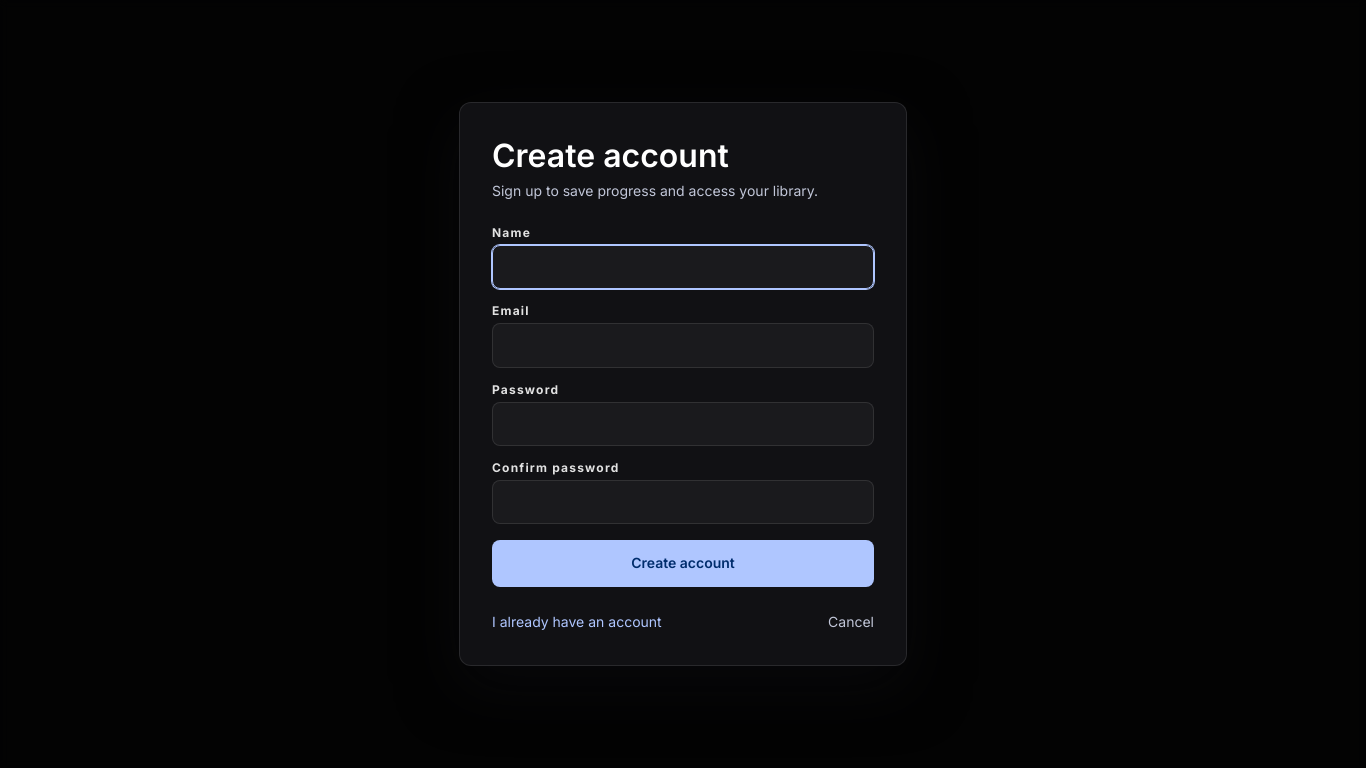
Test: SignUpDialog › surfaces a root error when signUp throws
Type "Alex" into the field labelled "Name".
click(683, 267); type("Alex")  # box [492, 245, 874, 289]
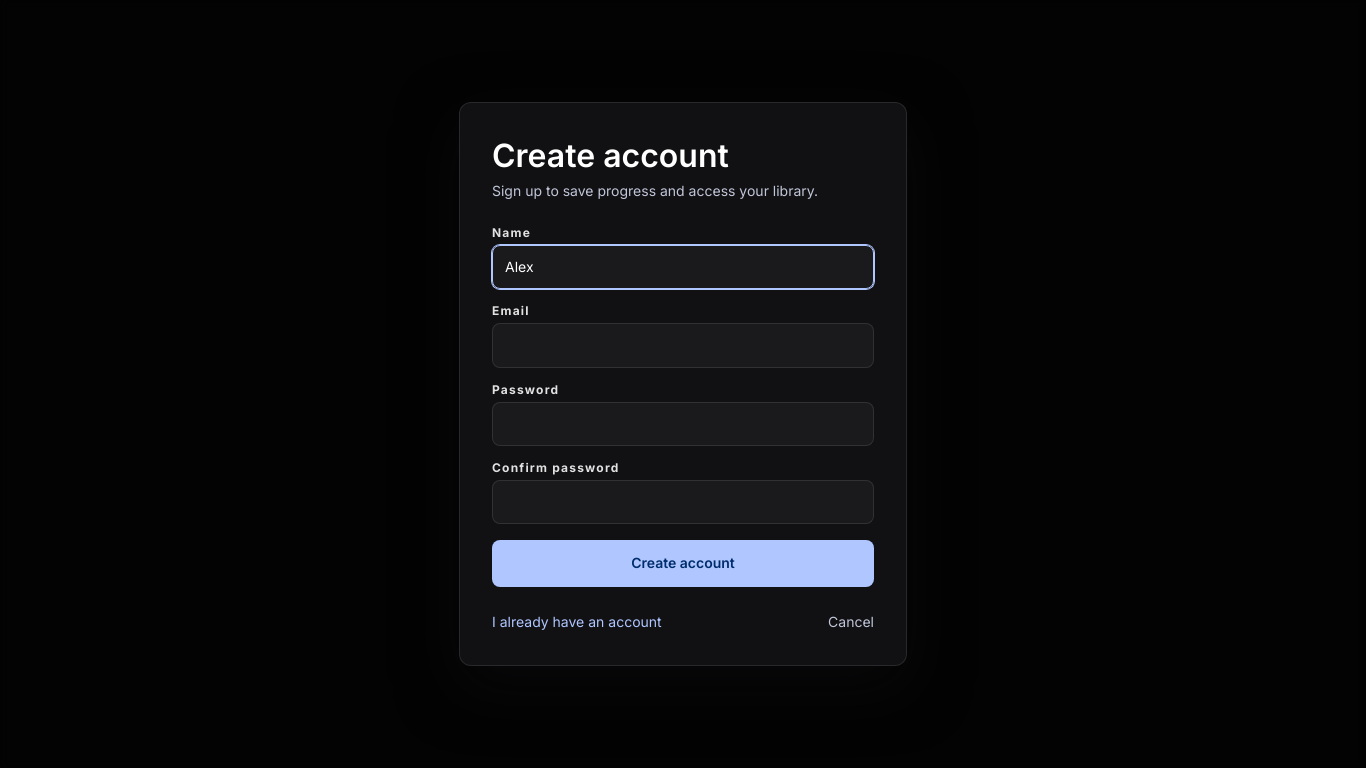
Type "a@b.com" into the field labelled "Email".
click(683, 345); type("a@b.com")  # box [492, 323, 874, 368]
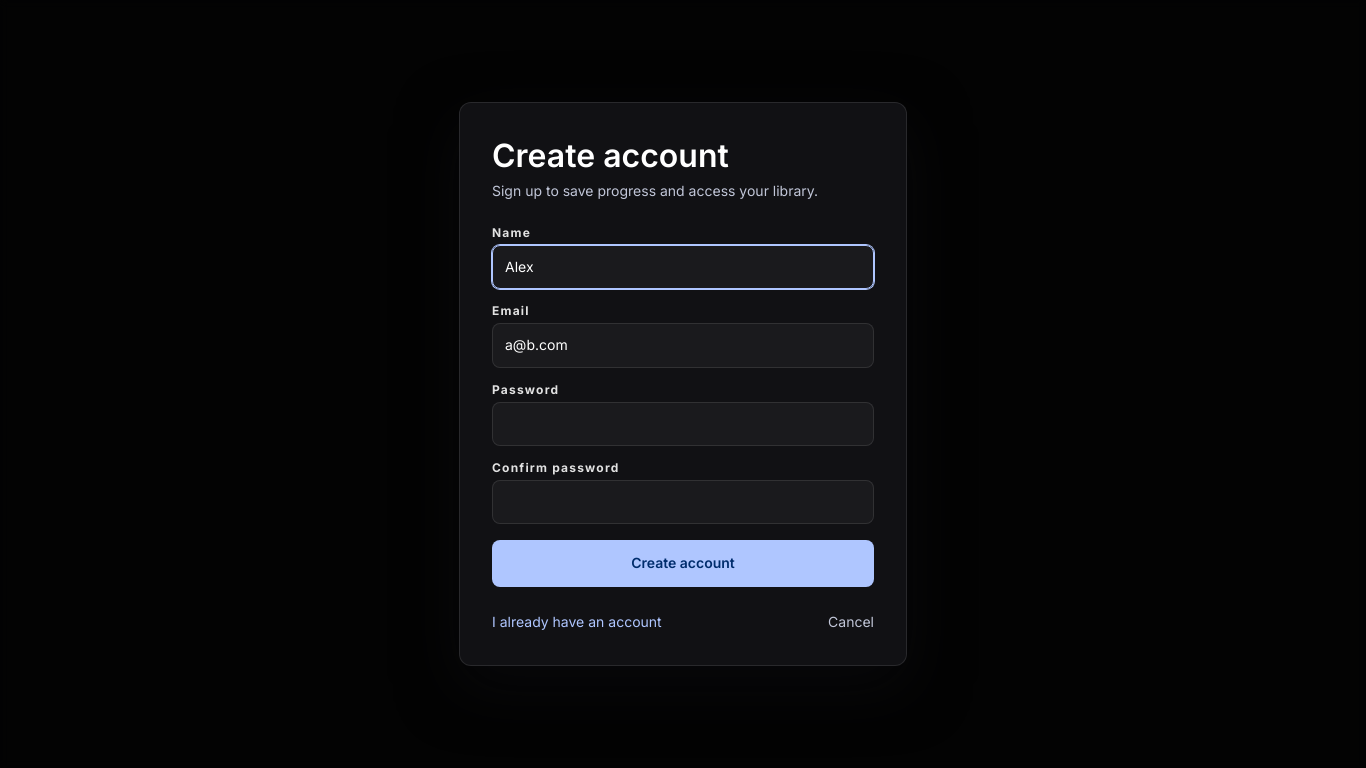
Type "longenough1" into the password field labelled "Password".
click(683, 424); type("longenough1")  # box [492, 402, 874, 446]
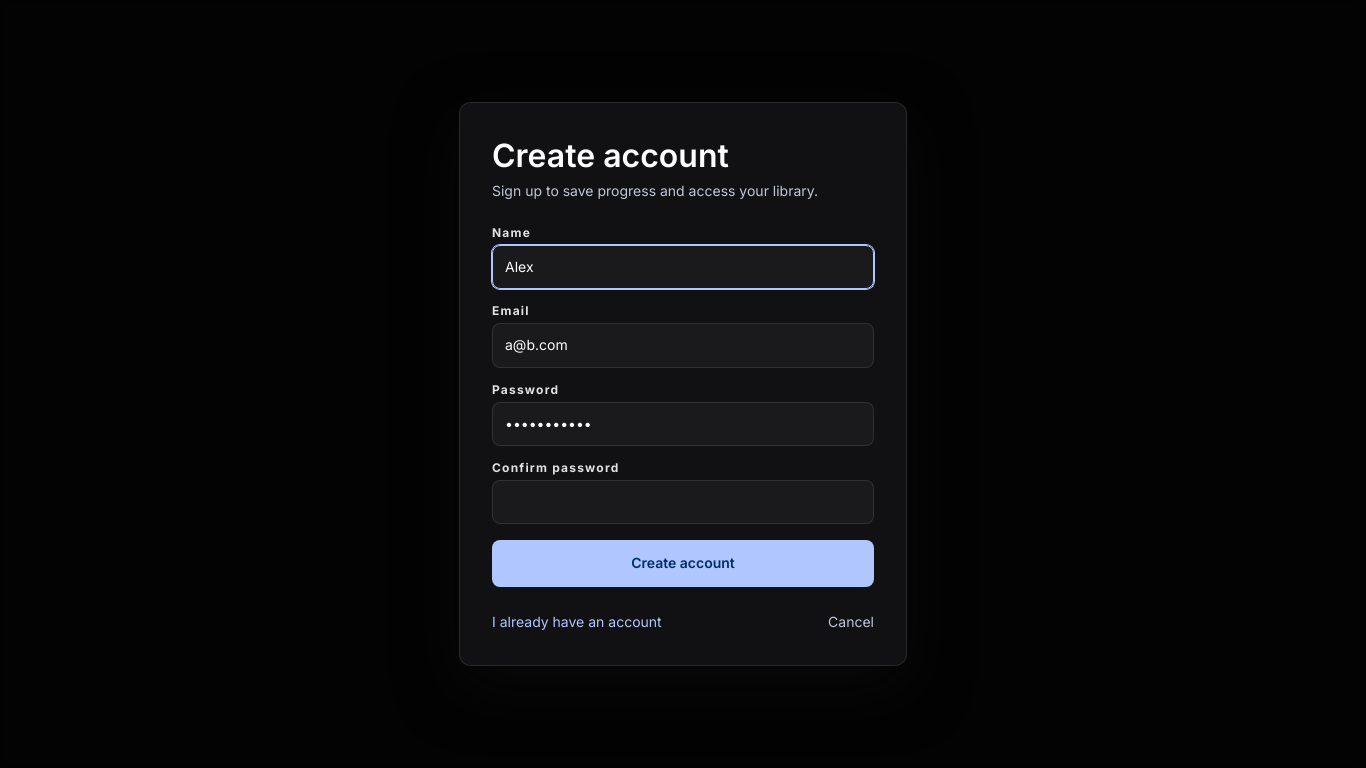
Type "longenough1" into the password field labelled "Confirm password".
click(683, 502); type("longenough1")  # box [492, 480, 874, 524]
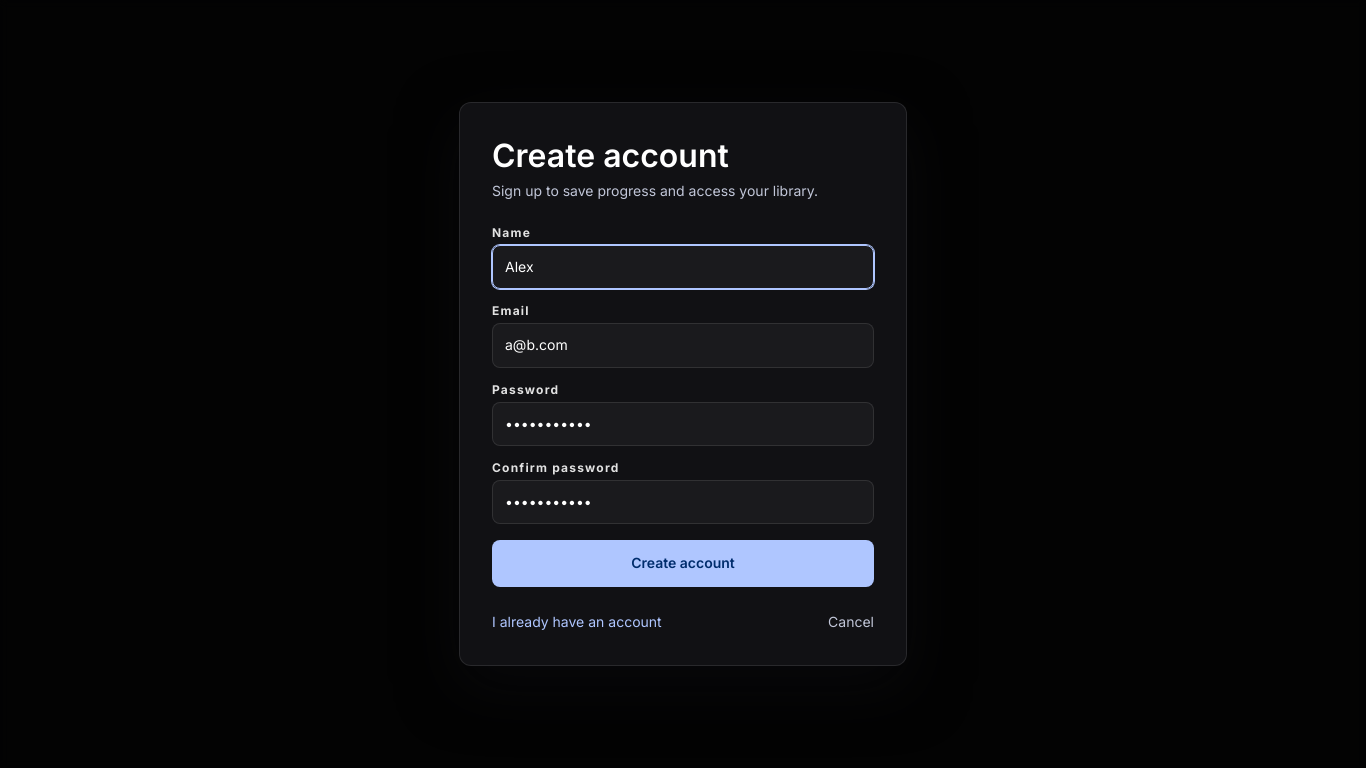
Click the button "Create account".
click(683, 564)  # box [492, 540, 874, 587]
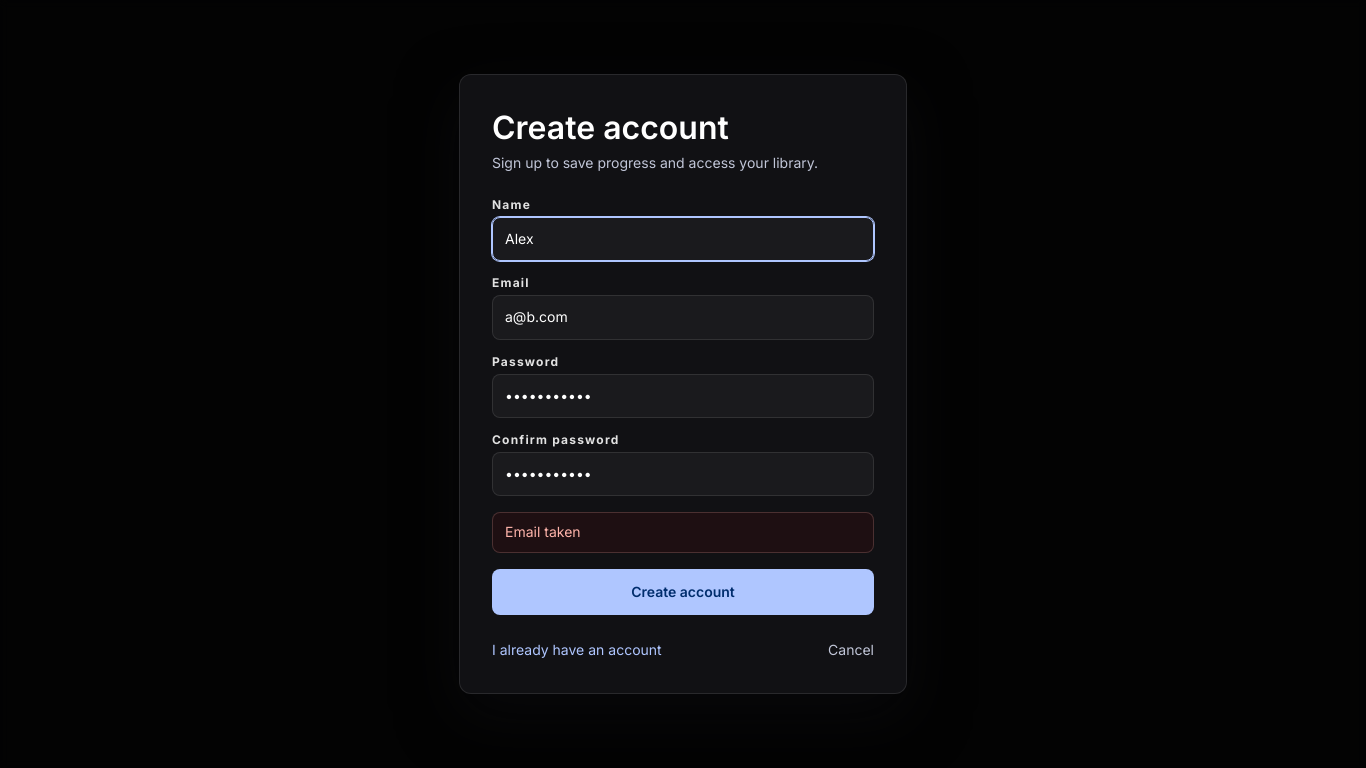
Check: the text "Email taken" is shown, box [492, 512, 874, 553]
